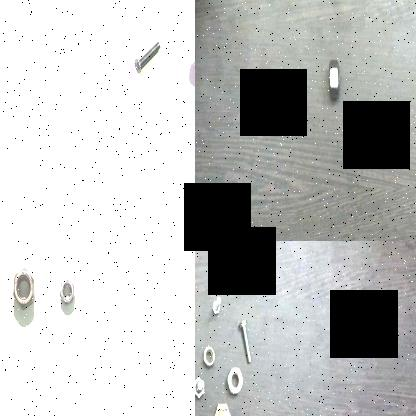Bolts: (133, 38, 161, 80), (238, 318, 258, 367), (195, 372, 207, 402), (211, 292, 223, 321), (213, 399, 232, 416)
NUTS: (12, 264, 36, 312), (327, 54, 346, 107), (57, 270, 77, 310), (226, 362, 247, 396), (373, 128, 389, 158), (203, 344, 217, 372)
